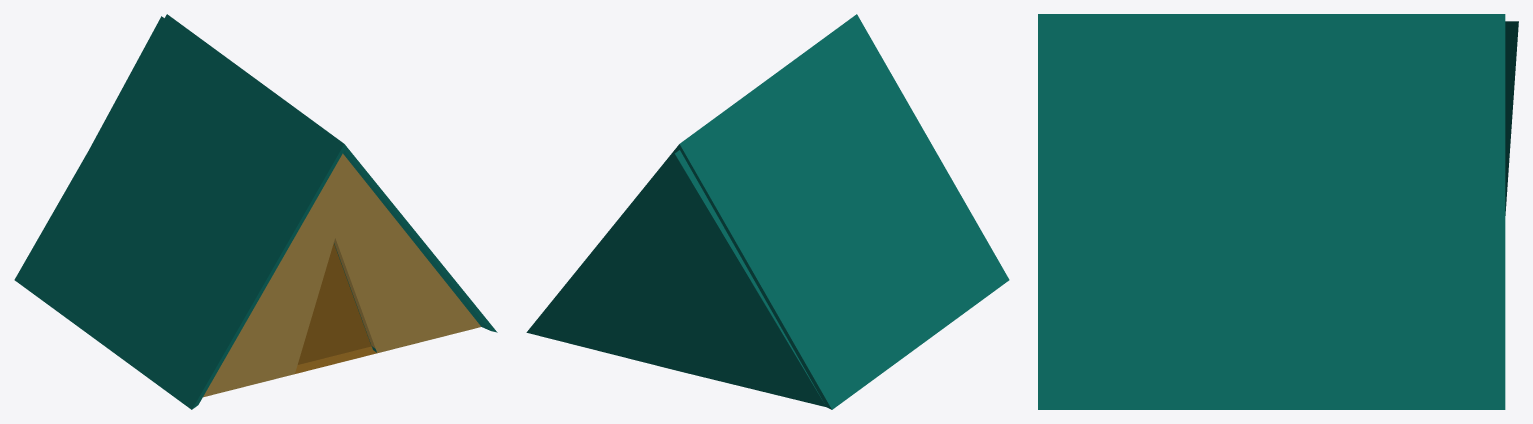
Rendered from tent.fbx.
3 views of the same model, side by side, from view 1: azimuth 30°, elevation 25°; view 2: azimuth 150°, elevation 25°; view 3: azimuth 270°, elevation 25° (orthographic). The views are drawn at different scales.
Visible parts, largest first — view 1: Куб.003; view 2: Куб.003; view 3: Куб.003.
Boxes of the visible parts, bbox=[...] form: Куб.003: bbox=[14, 14, 497, 409]; Куб.003: bbox=[526, 14, 1009, 409]; Куб.003: bbox=[1038, 14, 1518, 409].
Bounding box in the file's own units: 199 × 142 × 206.
